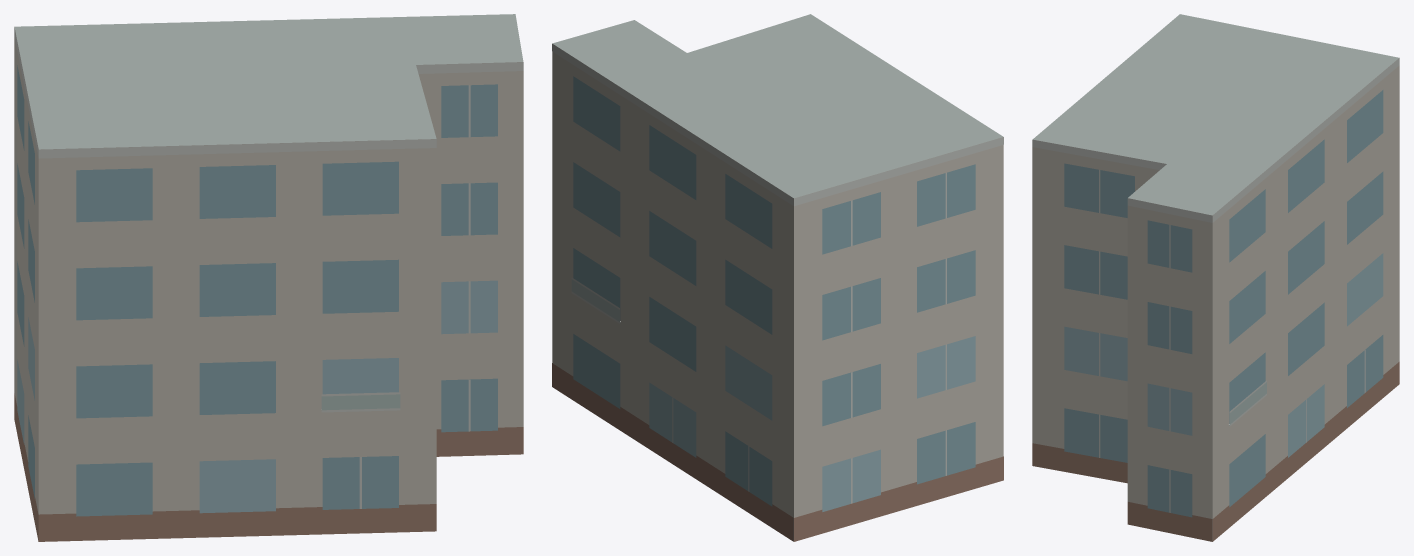
Rendered from survey-upis-32950958.glb.
3 views of the same model, side by side, from view 1: azimuth 30°, elevation 25°; view 2: azimuth 150°, elevation 25°; view 3: azimuth 270°, elevation 25° (orthographic). The views are drawn at different scales.
Parts seen in each view (by area): view 1: survey-upis-32950958.tmp; view 2: survey-upis-32950958.tmp; view 3: survey-upis-32950958.tmp.
Boxes of the visible parts, x1,y1,x2,y2 form: survey-upis-32950958.tmp: (14,14,523,541); survey-upis-32950958.tmp: (552,14,1003,541); survey-upis-32950958.tmp: (1032,14,1399,541).
Bounding box in the file's own units: 14.05 × 10.6 × 10.82.
